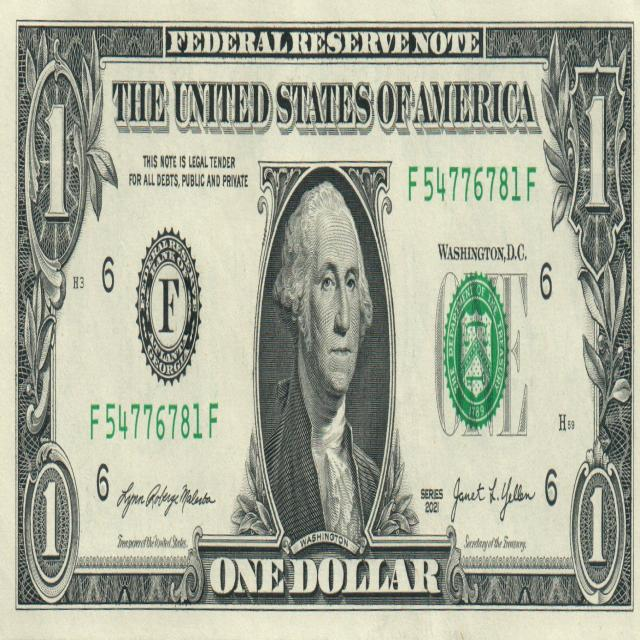SerialNumber: (409, 167, 536, 201), (91, 404, 202, 440)
